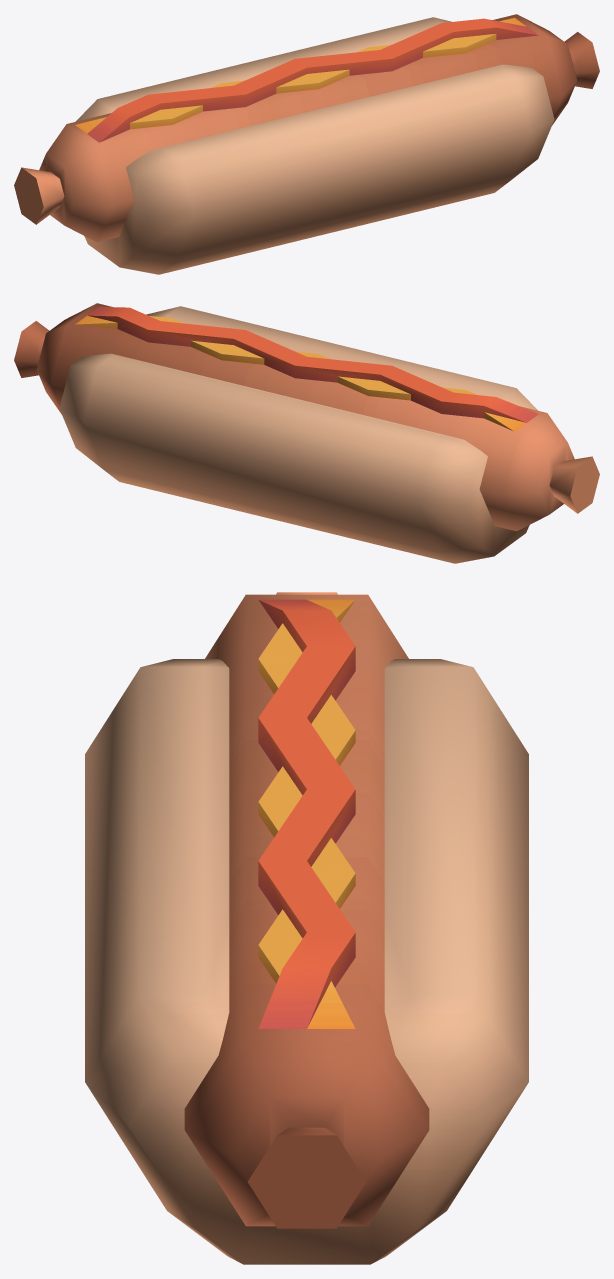
Rendered from hot-dog.glb.
3 renders of one model, top to bottom at view 1: azimuth 30°, elevation 25°; view 2: azimuth 150°, elevation 25°; view 3: azimuth 270°, elevation 25°, orthographic. The views are drawn at different scales.
Visible parts, largest first — view 1: hot-dog, sausage, sauce; view 2: hot-dog, sausage, sauce; view 3: hot-dog, sausage, sauce.
Part boxes in pixels (x1,y1,x2,y2): hot-dog: (75,17,554,274); sausage: (14,14,599,242); sauce: (75,18,538,142); hot-dog: (59,306,538,563); sausage: (14,303,599,531); sauce: (75,306,538,431); hot-dog: (85,659,528,1264); sausage: (184,592,429,1228); sauce: (258,599,355,1028).
Bounding box in the file's own units: 0.5859 × 0.1525 × 0.2026.
1 material, 1 textured.
